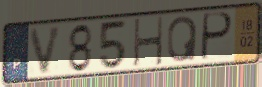5: (97, 18, 132, 72)
8: (66, 21, 94, 75)
H: (133, 15, 165, 69)
P: (199, 11, 235, 63)
Q: (166, 14, 200, 64)
V: (27, 24, 65, 77)
